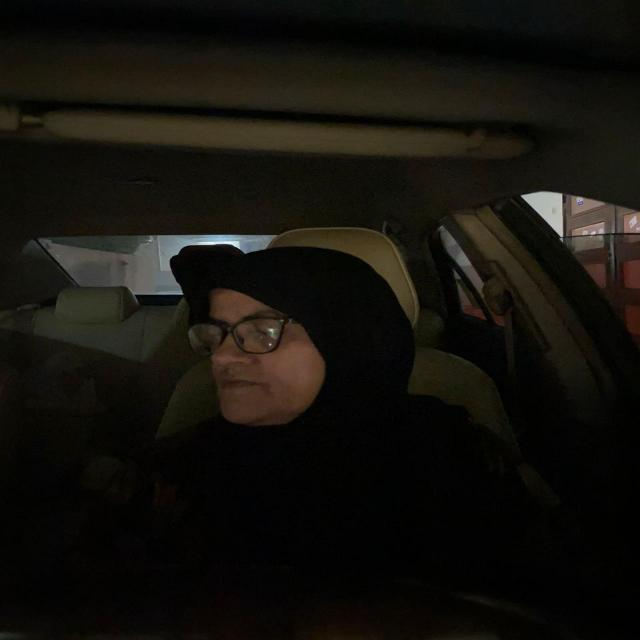LeftRight: (189, 240, 418, 437)
